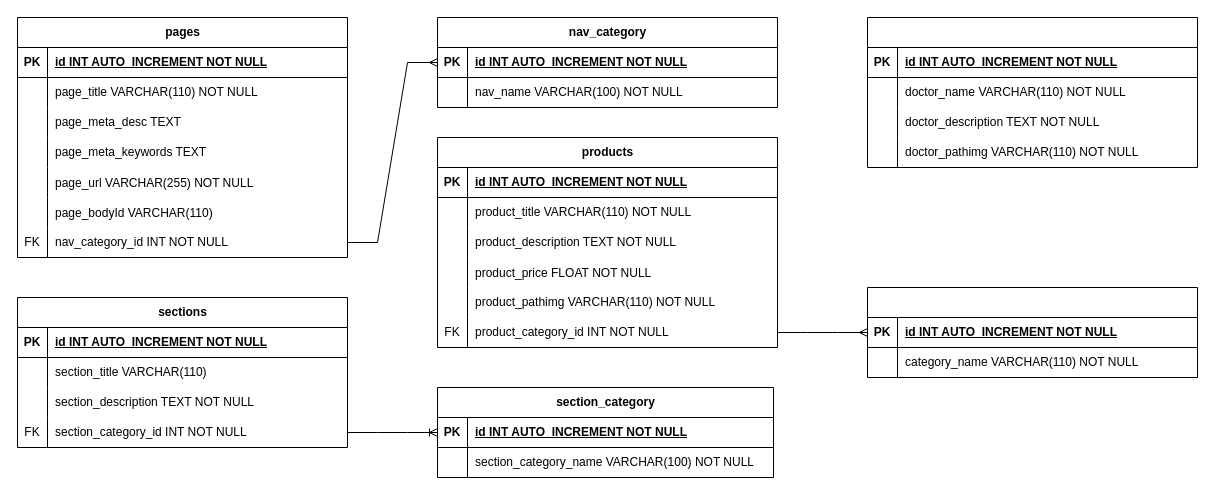
Some shapes in this 1215 by 495 pixel diagram are drawn without their labels. The shapes that lost their labels are listed below. From the top down, each one's box as (x1, y1, x2, y2) in pixels, then its label:
(866, 16, 1198, 168): doctors
(866, 286, 1198, 378): product_category
